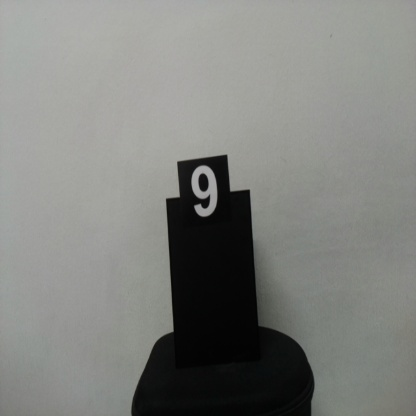id_9: (179, 162, 231, 237)
